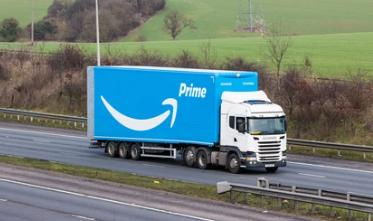vehicle: (87, 65, 287, 174)
